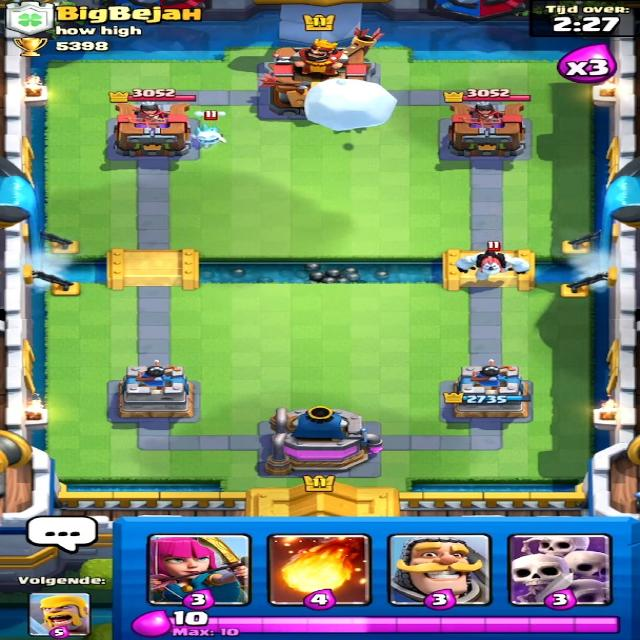Enemy_Ice_Golem_Troop: (460, 251, 532, 281)
Enemy_Ice_Spirit_Troop: (190, 121, 227, 146)
Enemy_Snowball_Troop: (294, 77, 402, 135)
Fireball_Card: (272, 536, 366, 608)
